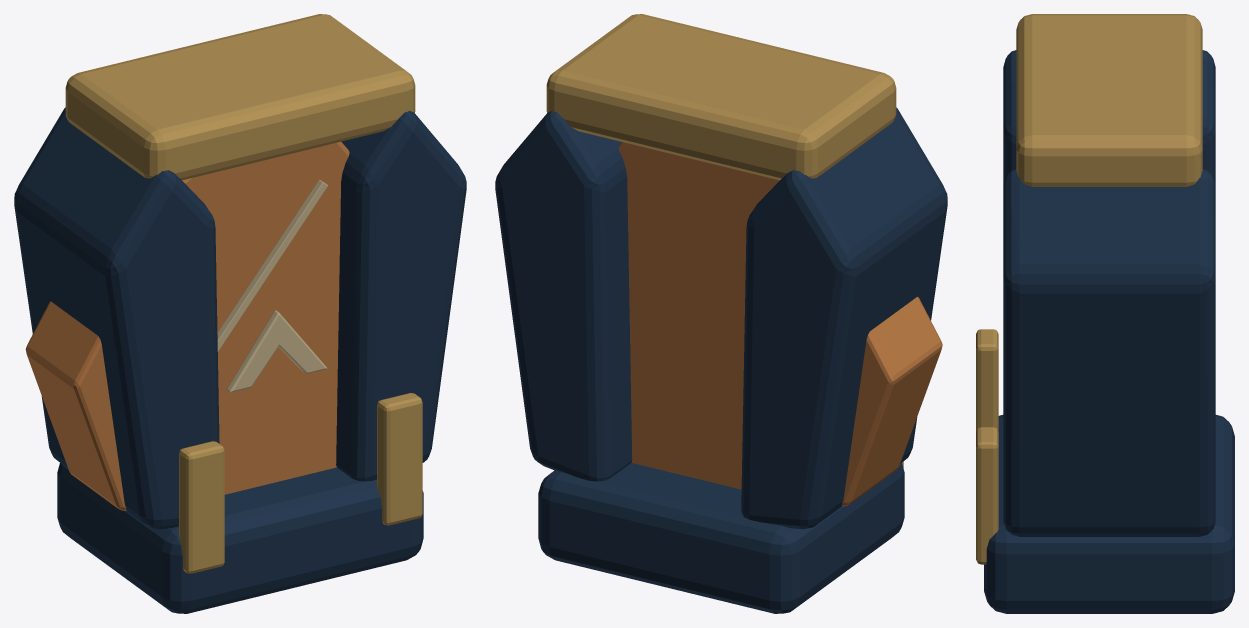
Rendered from DAMAGE_CELL.hi.glb.
3 views of the same model, side by side, from view 1: azimuth 30°, elevation 25°; view 2: azimuth 150°, elevation 25°; view 3: azimuth 270°, elevation 25° (orthographic).
Visible parts, largest first — view 1: Body_Mesh; view 2: Body_Mesh; view 3: Body_Mesh.
Boxes of the visible parts, x1,y1,x2,y2 form: Body_Mesh: [14, 14, 466, 613]; Body_Mesh: [495, 14, 947, 613]; Body_Mesh: [976, 14, 1234, 613].
Size of the model in its own units: 0.6788 by 0.8275 by 0.4025.
